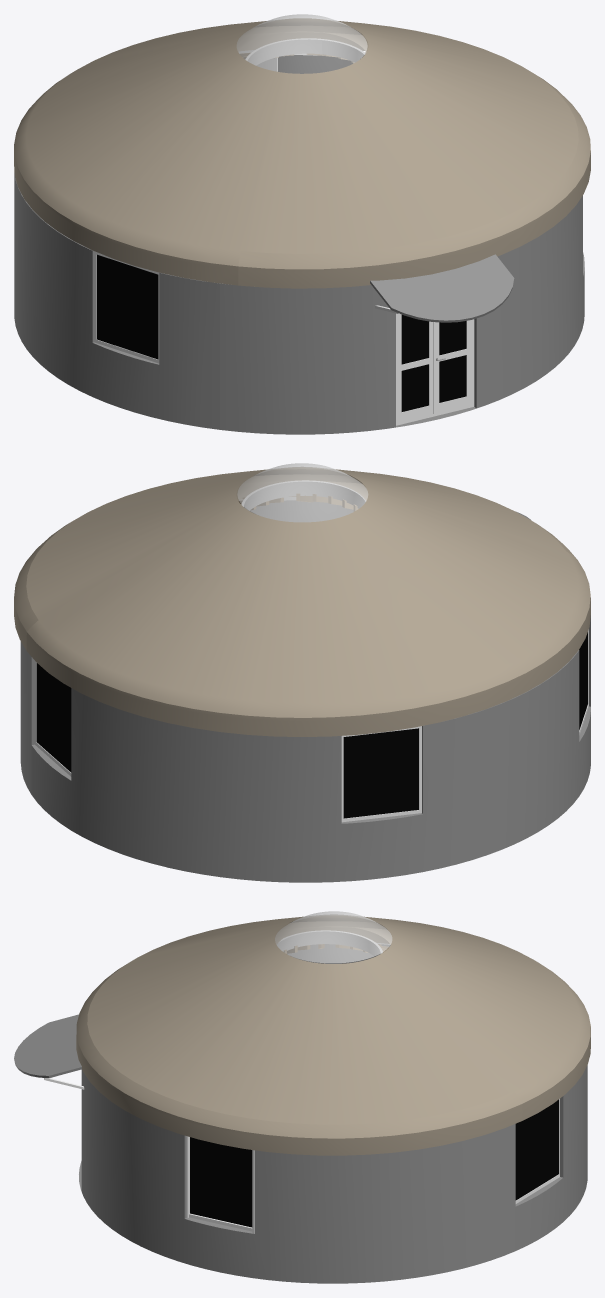
Rendered from exterior.glb.
The picture shows the model from 3 angles, top to bottom: view 1: azimuth 30°, elevation 25°; view 2: azimuth 150°, elevation 25°; view 3: azimuth 270°, elevation 25°; orthographic projection. The views are drawn at different scales.
Visible parts, largest first — view 1: Roof cover, Wall cover, Glass, [Translucent Glass Sky Reflection]2, Charcoal Blue1, Roof frame; view 2: Roof cover, Wall cover, Glass, [Translucent Glass Sky Reflection]2, Roof frame, Charcoal Blue1; view 3: Roof cover, Wall cover, Glass, [Translucent Glass Sky Reflection]2, Roof frame, Charcoal Blue1.
Boxes of the visible parts, x1,y1,x2,y2 form: Roof cover: (14, 18, 590, 288); Wall cover: (14, 50, 584, 434); Glass: (97, 55, 466, 411); [Translucent Glass Sky Reflection]2: (236, 14, 367, 73); Charcoal Blue1: (94, 53, 474, 425); Roof frame: (240, 38, 365, 65); Roof cover: (14, 467, 590, 736); Wall cover: (20, 497, 590, 882); Glass: (36, 632, 587, 818); [Translucent Glass Sky Reflection]2: (237, 463, 368, 522); Roof frame: (238, 480, 365, 511); Charcoal Blue1: (35, 629, 588, 822); Roof cover: (76, 914, 590, 1155); Wall cover: (14, 942, 587, 1283); Glass: (190, 1099, 558, 1227); [Translucent Glass Sky Reflection]2: (275, 911, 392, 963); Roof frame: (277, 930, 388, 956); Charcoal Blue1: (186, 1099, 559, 1233).
Size of the model in its own units: 10.12 by 5.61 by 11.34.
